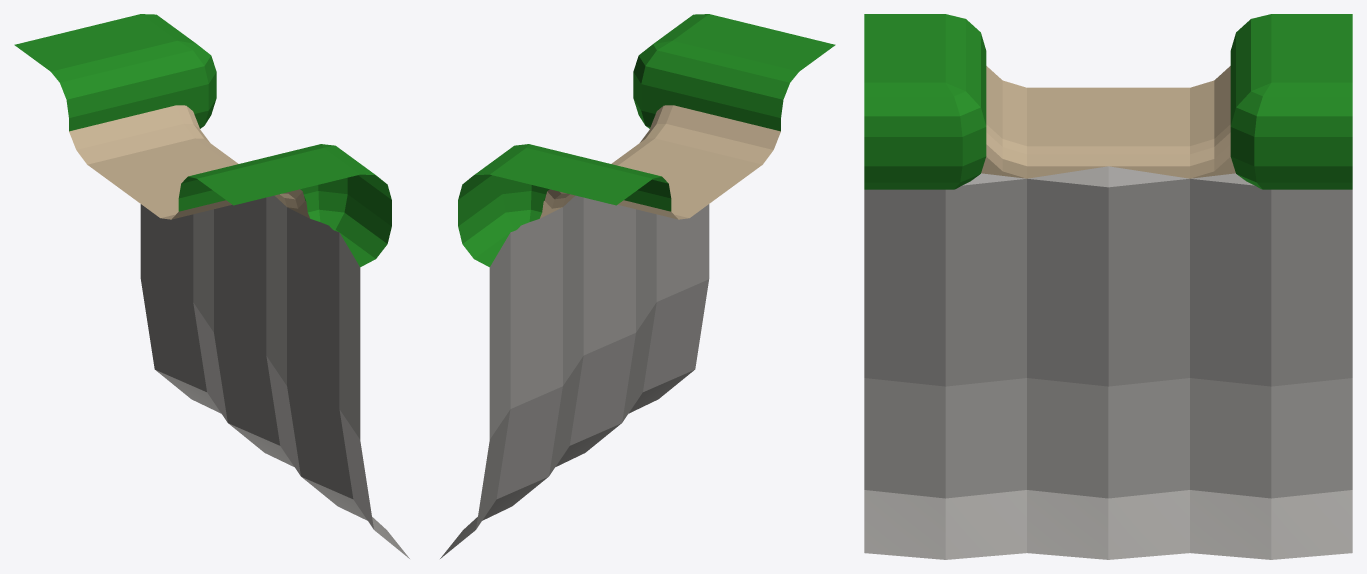
The model's file is Track_Cliff_Edge_Standard_3_Tall_Single.obj.
3 views of the same model, side by side, from view 1: azimuth 30°, elevation 25°; view 2: azimuth 150°, elevation 25°; view 3: azimuth 270°, elevation 25° (orthographic). The views are drawn at different scales.
Parts seen in each view (by area): view 1: Rock, Grass, Dirt; view 2: Rock, Grass, Dirt; view 3: Rock, Grass, Dirt.
Part boxes in pixels (box(x1,y1,x2,y2)): Rock: box(140, 195, 409, 558); Grass: box(14, 14, 391, 267); Dirt: box(69, 105, 309, 219); Rock: box(440, 195, 709, 558); Grass: box(458, 14, 835, 267); Dirt: box(540, 105, 780, 219); Rock: box(864, 166, 1352, 559); Grass: box(864, 14, 1352, 189); Dirt: box(981, 66, 1235, 178).
Bounding box in the file's own units: 1.5 × 3 × 3.
